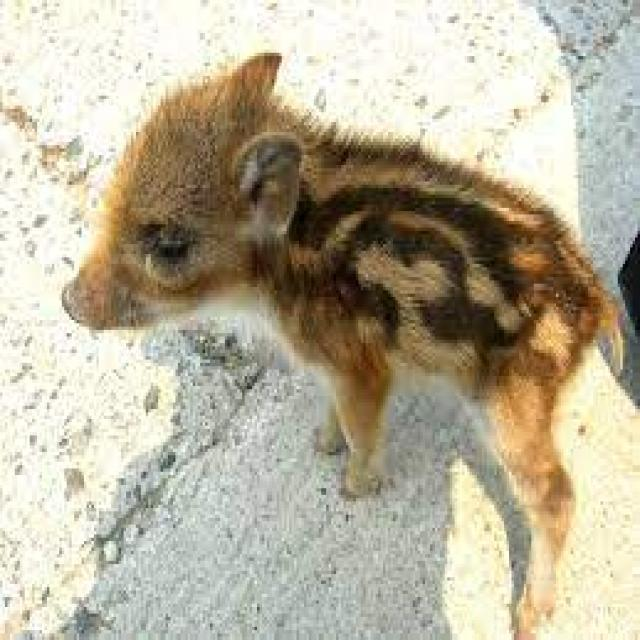boar: (50, 31, 609, 635)
